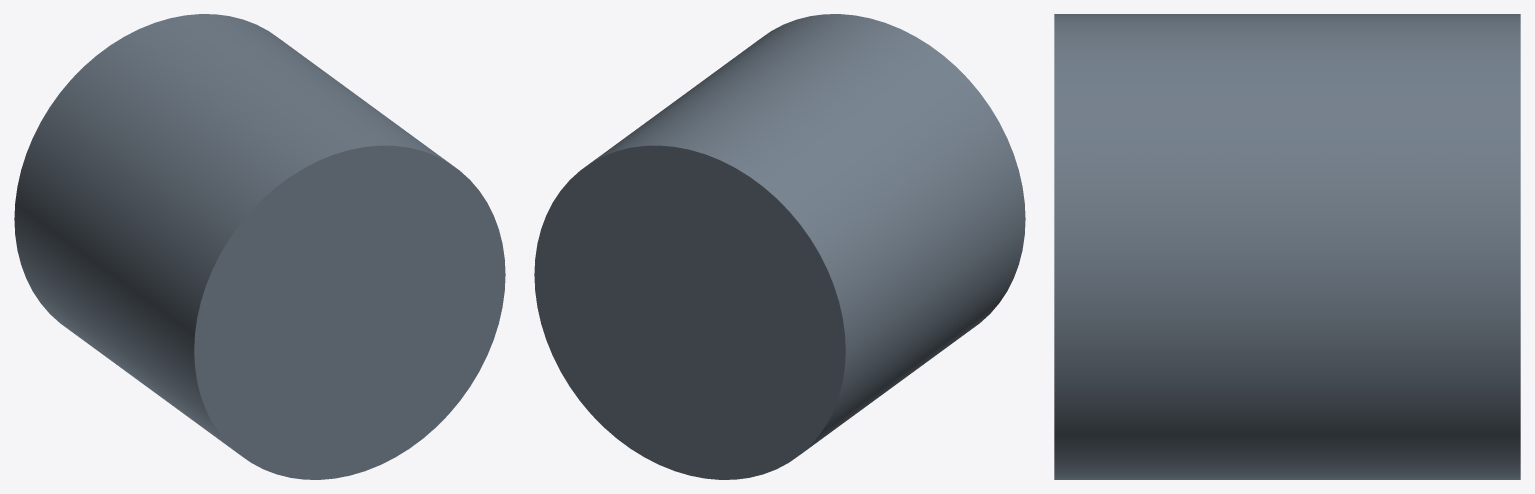
The model's file is pipe.glb.
3 renders of one model, left to right at view 1: azimuth 30°, elevation 25°; view 2: azimuth 150°, elevation 25°; view 3: azimuth 270°, elevation 25°, orthographic. The views are drawn at different scales.
Visible parts, largest first — view 1: _MeshInstance3D_7; view 2: _MeshInstance3D_7; view 3: _MeshInstance3D_7.
Boxes of the visible parts, box(x1,y1,x2,y2) form: _MeshInstance3D_7: box(14, 14, 505, 479); _MeshInstance3D_7: box(534, 14, 1025, 479); _MeshInstance3D_7: box(1054, 14, 1520, 479).
Size of the model in its own units: 1 by 1 by 1.
